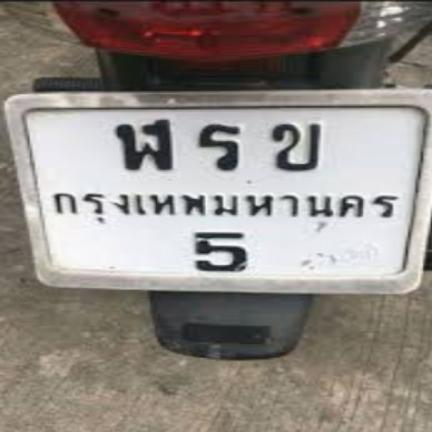5: (182, 227, 263, 279)
A02: (265, 118, 333, 172)
A35: (192, 113, 247, 174)
A42: (105, 113, 178, 175)
BKK: (39, 185, 406, 226)
